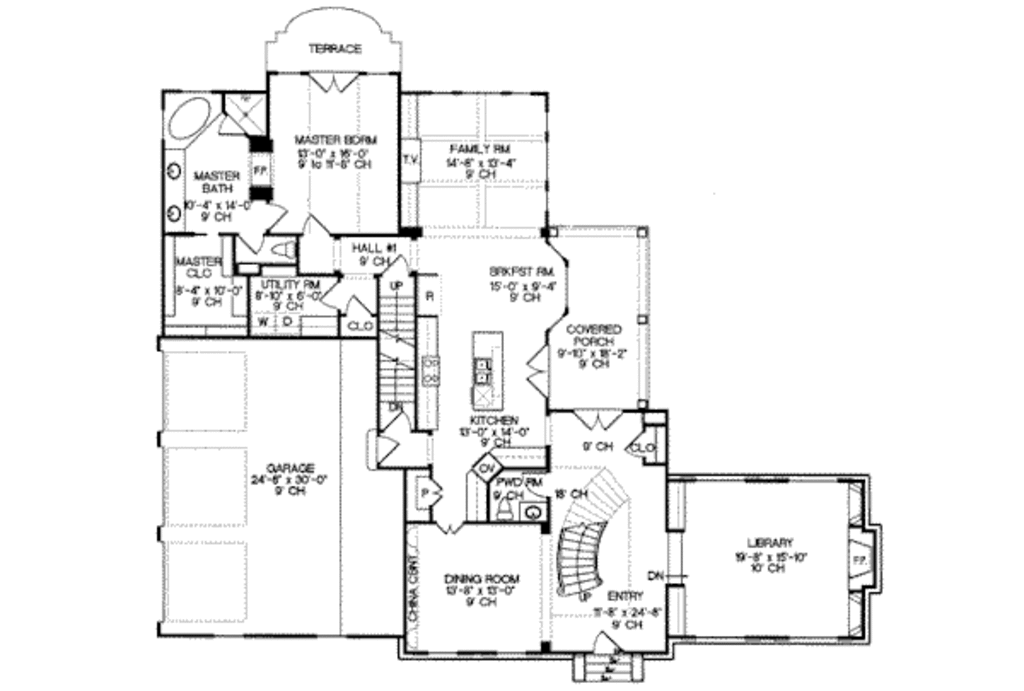door: (524, 342, 552, 405), (302, 70, 364, 97), (570, 402, 626, 431), (373, 434, 404, 467), (341, 292, 375, 320), (623, 428, 649, 464), (264, 193, 288, 231), (298, 211, 336, 235), (320, 277, 339, 319), (234, 233, 267, 255), (434, 516, 467, 534)
kitchen_bar: (467, 328, 509, 414)
large_sink: (265, 233, 296, 264), (490, 497, 516, 523)
small_sink: (161, 149, 188, 232), (519, 498, 551, 522)
stairs: (554, 467, 628, 603), (374, 271, 418, 429), (571, 628, 648, 685)
tub: (162, 90, 226, 152)
